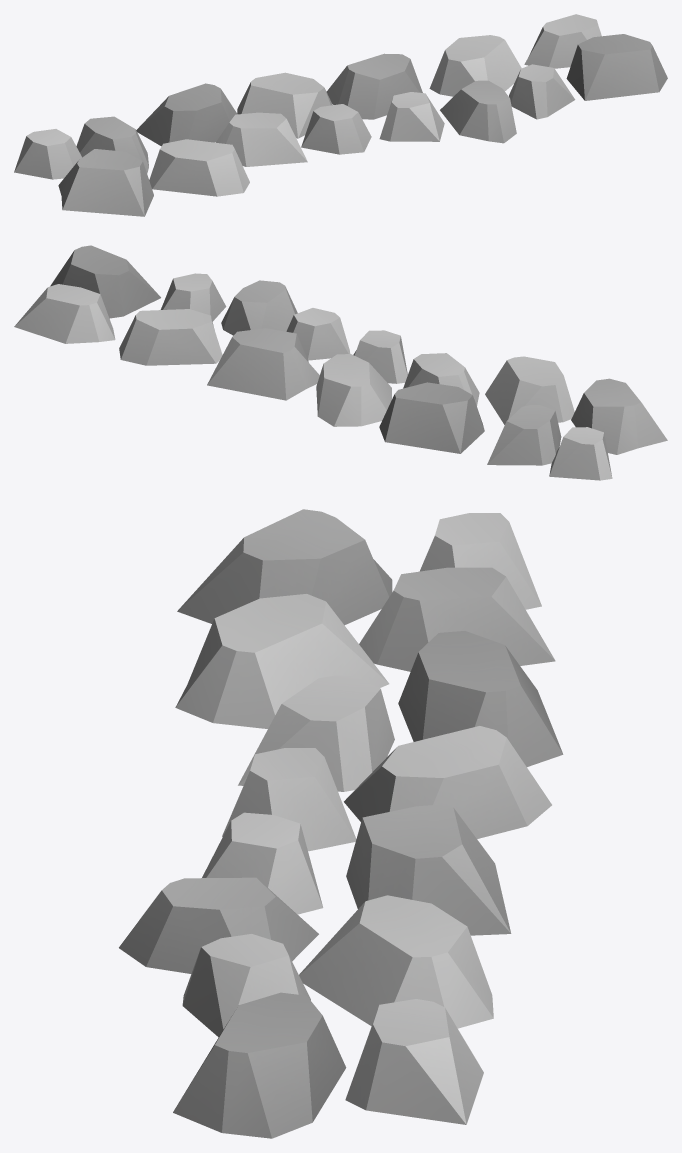
File: StonePath_Straight.fbx
3 renders of one model, top to bottom at view 1: azimuth 30°, elevation 25°; view 2: azimuth 150°, elevation 25°; view 3: azimuth 270°, elevation 25°, orthographic. The views are drawn at different scales.
Visible parts, largest first — view 1: StonePath_Straight; view 2: StonePath_Straight; view 3: StonePath_Straight.
Boxes of the visible parts, <box> form: StonePath_Straight: <box>14,14,667,216</box>; StonePath_Straight: <box>14,245,667,480</box>; StonePath_Straight: <box>119,509,563,1138</box>.
Bounding box in the file's own units: 8.27 × 0.4673 × 2.68.
